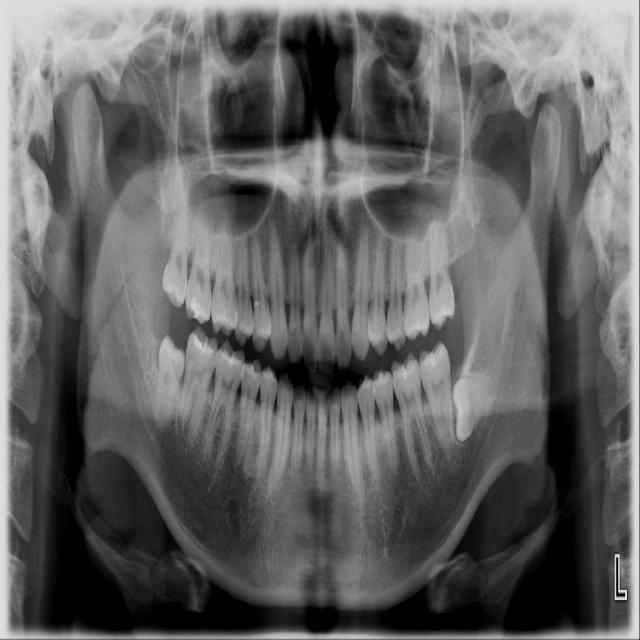Filling: (189, 332, 215, 356), (185, 299, 207, 323), (425, 345, 445, 369), (397, 358, 415, 379)
impacted tooth: (454, 367, 498, 439), (155, 337, 185, 430)
